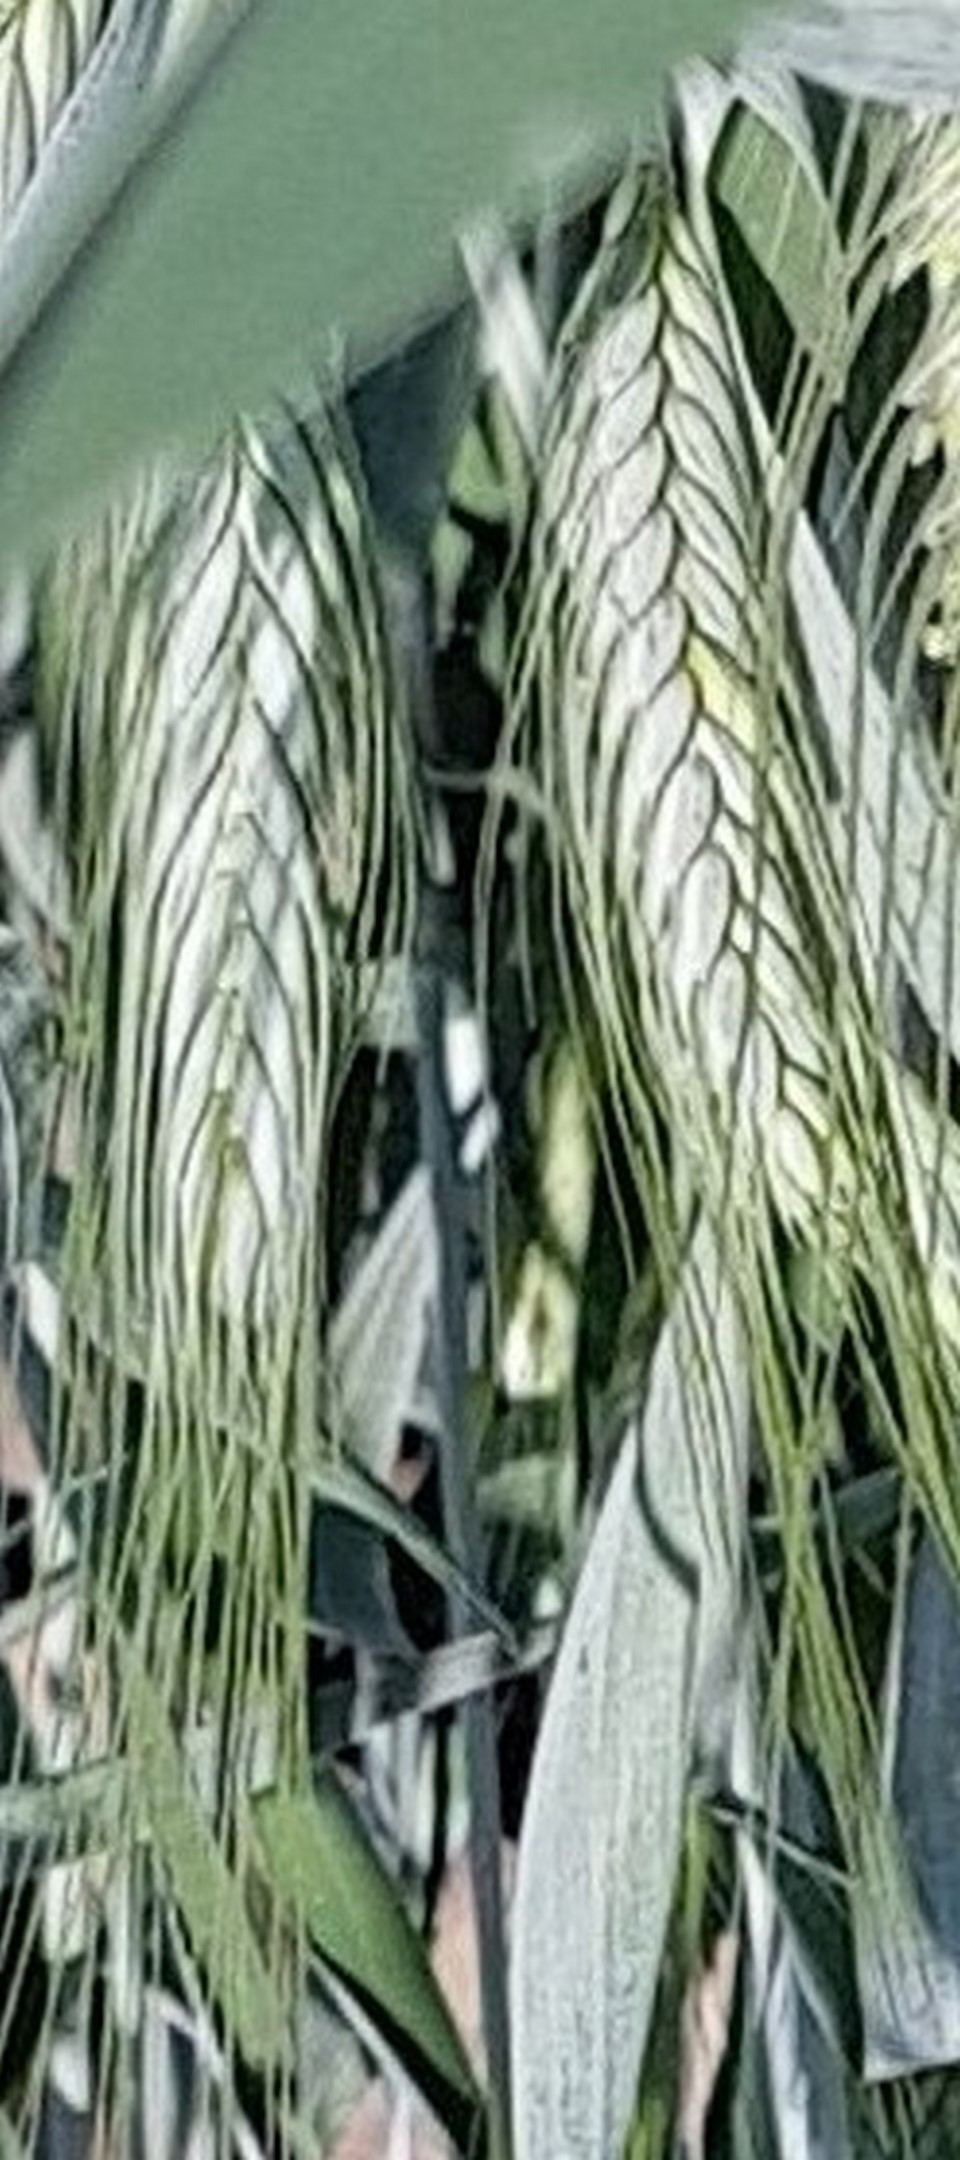Healthy Wheat: (514, 174, 939, 1298)
